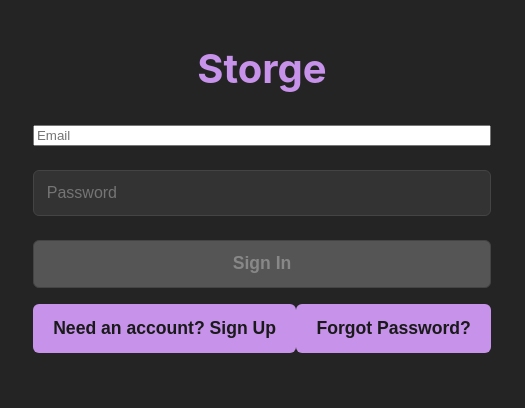
Test: LoginPage Component › shows error message on sign-up failure (user exists)
Click the button "Need an account? Sign Up": (165, 328) [33,304,296,353]
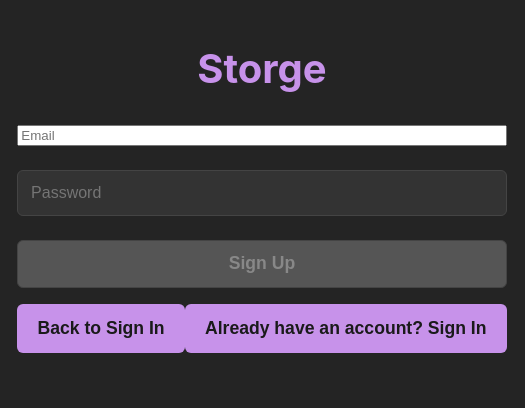
In the field with placeholder "Email": (262, 136) [17,125,507,146], type "exists@example.com"
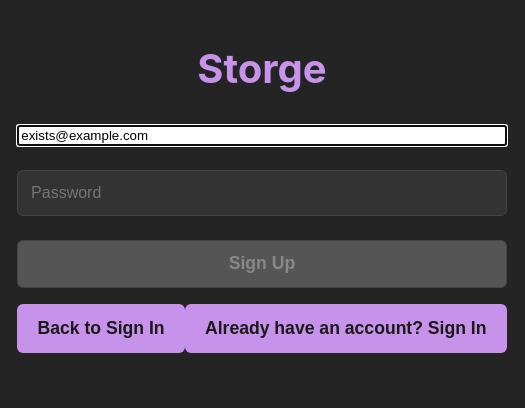
In the password field with placeholder "Password": (262, 193) [17,170,507,216], type "password123"
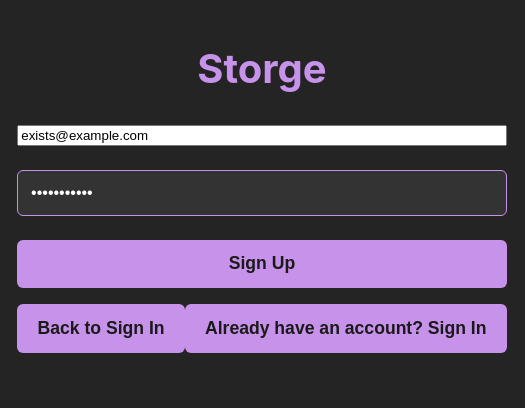
Click the button "Sign Up": (262, 264) [17,240,507,288]
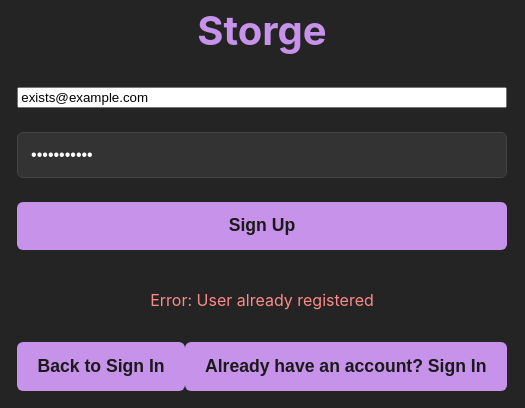
Expected: the text "Error: User already registered" is shown, [150,290,374,310]
